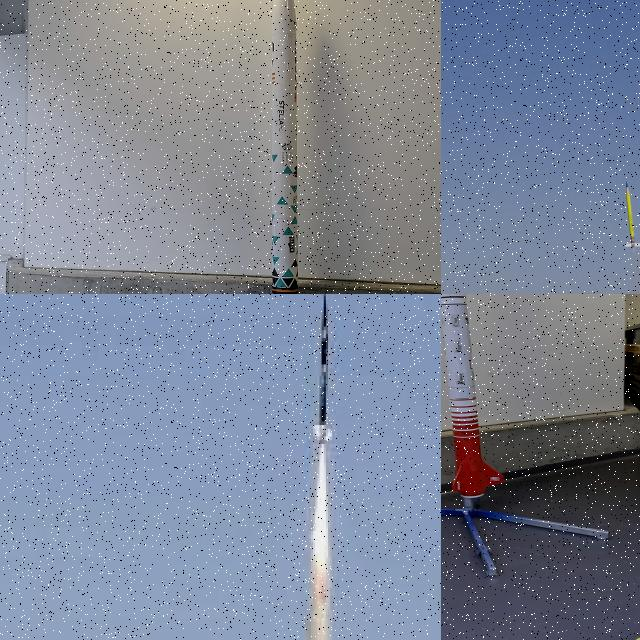Rocket: (441, 294, 504, 498), (271, 0, 299, 294), (310, 294, 334, 449), (622, 180, 640, 251)
